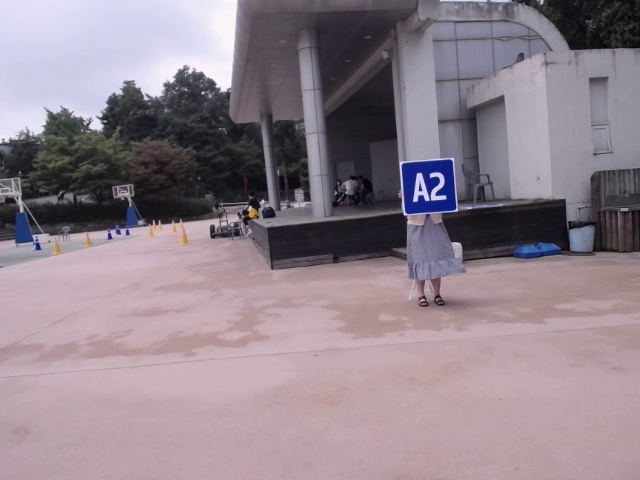delivery_a2: (400, 159, 457, 215)
